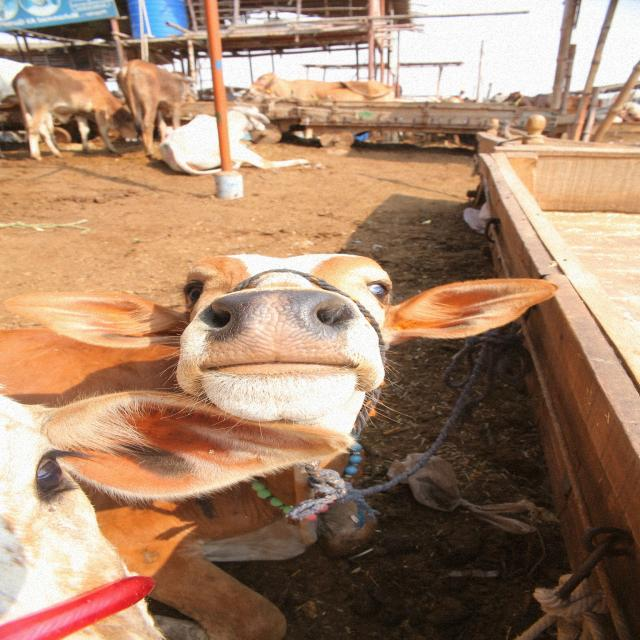muzzles: (185, 290, 375, 374)
